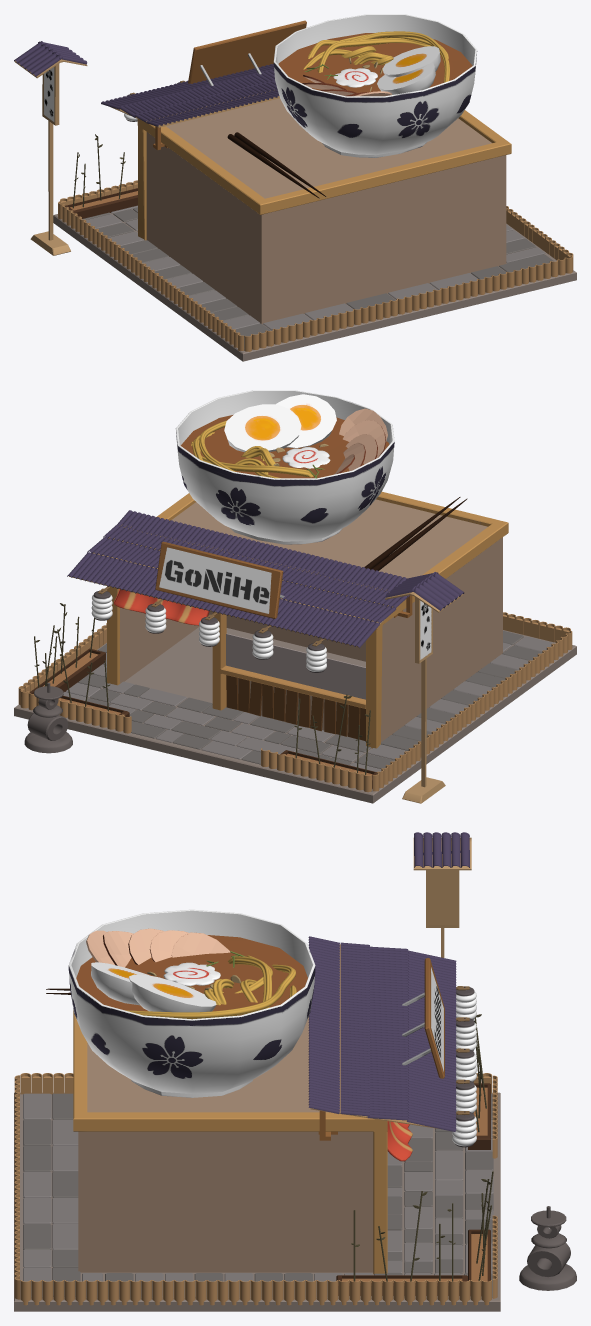
Rendered from SukiyaGoNiHe.fbx.
3 renders of one model, top to bottom at view 1: azimuth 30°, elevation 25°; view 2: azimuth 150°, elevation 25°; view 3: azimuth 270°, elevation 25°, orthographic. The views are drawn at different scales.
Visible parts, largest first — view 1: MSH_Restaurant, MSH_Tazon/Palillos, MSH_piso, MSH_Regita, MSH_Tejado/Techo, MSH_Ingredientes, MSH_Letreros/Soportes, MSH_Masetas; view 2: MSH_Restaurant, MSH_piso, MSH_Tejado/Techo, MSH_Tazon/Palillos, MSH_Puestito, MSH_Ingredientes, MSH_Regita, MSH_Letreros/Soportes, MSH_Masetas, MSH_Lamparas, MSH_Fuente, MSH_Sombrita; view 3: MSH_Restaurant, MSH_piso, MSH_Tazon/Palillos, MSH_Tejado/Techo, MSH_Regita, MSH_Ingredientes, MSH_Letreros/Soportes, MSH_Masetas, MSH_Lamparas, MSH_Fuente, MSH_Sombrita.
Part boxes in pixels (x1=…): MSH_Restaurant: x1=137, y1=98, x2=511, y2=324; MSH_Tazon/Palillos: x1=227, y1=14, x2=477, y2=198; MSH_piso: x1=53, y1=205, x2=576, y2=361; MSH_Regita: x1=58, y1=180, x2=573, y2=351; MSH_Tejado/Techo: x1=14, y1=41, x2=279, y2=127; MSH_Ingredientes: x1=302, y1=31, x2=449, y2=96; MSH_Letreros/Soportes: x1=14, y1=20, x2=306, y2=255; MSH_Masetas: x1=65, y1=134, x2=137, y2=218; MSH_Restaurant: x1=107, y1=491, x2=508, y2=748; MSH_piso: x1=14, y1=626, x2=576, y2=803; MSH_Tejado/Techo: x1=67, y1=510, x2=464, y2=647; MSH_Tazon/Palillos: x1=175, y1=390, x2=467, y2=570; MSH_Puestito: x1=212, y1=612, x2=365, y2=740; MSH_Ingredientes: x1=191, y1=394, x2=387, y2=478; MSH_Regita: x1=18, y1=612, x2=572, y2=792; MSH_Letreros/Soportes: x1=155, y1=541, x2=462, y2=803; MSH_Masetas: x1=29, y1=603, x2=376, y2=788; MSH_Lamparas: x1=91, y1=586, x2=326, y2=672; MSH_Fuente: x1=24, y1=682, x2=72, y2=753; MSH_Sombrita: x1=114, y1=589, x2=209, y2=625; MSH_Restaurant: x1=73, y1=1010, x2=387, y2=1274; MSH_piso: x1=14, y1=1092, x2=500, y2=1311; MSH_Tazon/Palillos: x1=46, y1=909, x2=315, y2=1097; MSH_Tejado/Techo: x1=308, y1=832, x2=469, y2=1131; MSH_Regita: x1=14, y1=1073, x2=497, y2=1305; MSH_Ingredientes: x1=86, y1=928, x2=296, y2=1019; MSH_Letreros/Soportes: x1=318, y1=837, x2=471, y2=1140; MSH_Masetas: x1=336, y1=1014, x2=493, y2=1295; MSH_Lamparas: x1=452, y1=986, x2=476, y2=1147; MSH_Fuente: x1=519, y1=1206, x2=576, y2=1290; MSH_Sombrita: x1=387, y1=1121, x2=412, y2=1161.
Size of the model in its own units: 170 by 89.04 by 167.
